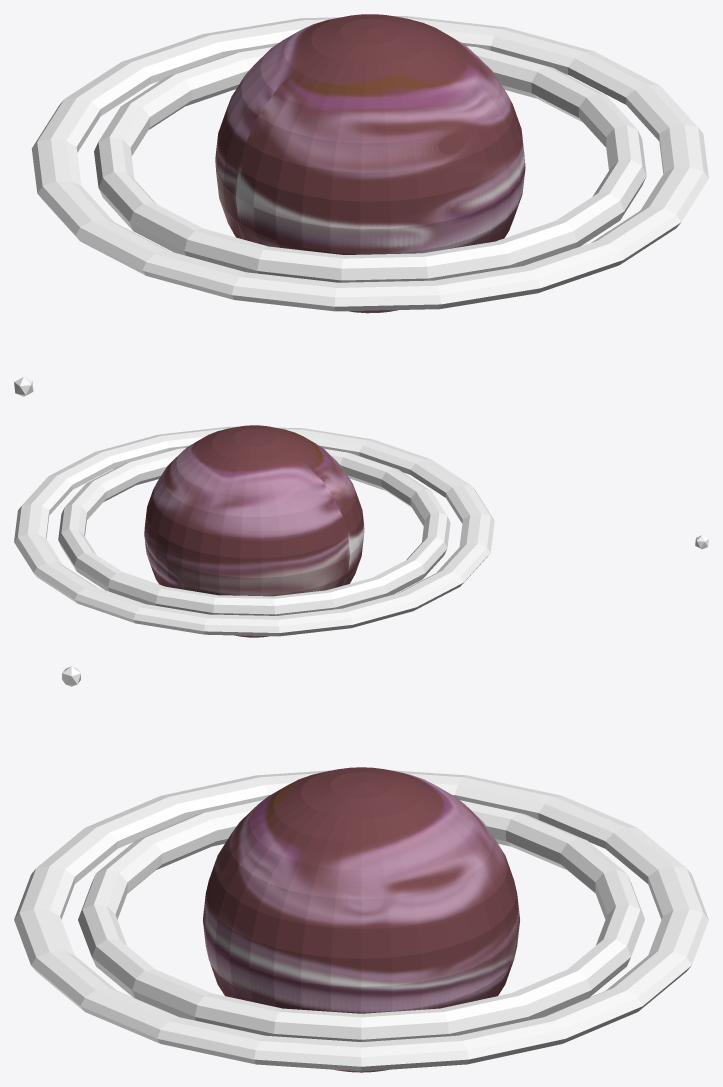
The model's file is lowpoly_saturn.glb.
The picture shows the model from 3 angles, top to bottom: view 1: azimuth 30°, elevation 25°; view 2: azimuth 150°, elevation 25°; view 3: azimuth 270°, elevation 25°; orthographic projection. The views are drawn at different scales.
Parts seen in each view (by area): view 1: Sphere.001, Torus.003, Torus.001; view 2: Sphere.001, Torus.003, Torus.001; view 3: Sphere.001, Torus.003, Torus.001.
Part boxes in pixels (left/top/right/bottom): Sphere.001: left=215, top=14, right=525, bottom=313; Torus.003: left=31, top=16, right=708, bottom=311; Torus.001: left=94, top=46, right=646, bottom=282; Sphere.001: left=144, top=425, right=364, bottom=637; Torus.003: left=14, top=426, right=494, bottom=636; Torus.001: left=58, top=448, right=450, bottom=615; Sphere.001: left=203, top=767, right=519, bottom=1072; Torus.003: left=14, top=770, right=708, bottom=1071; Torus.001: left=78, top=800, right=644, bottom=1041.
Bounding box in the file's own units: 5.88 × 1.91 × 4.38.
3 materials, 1 textured.
